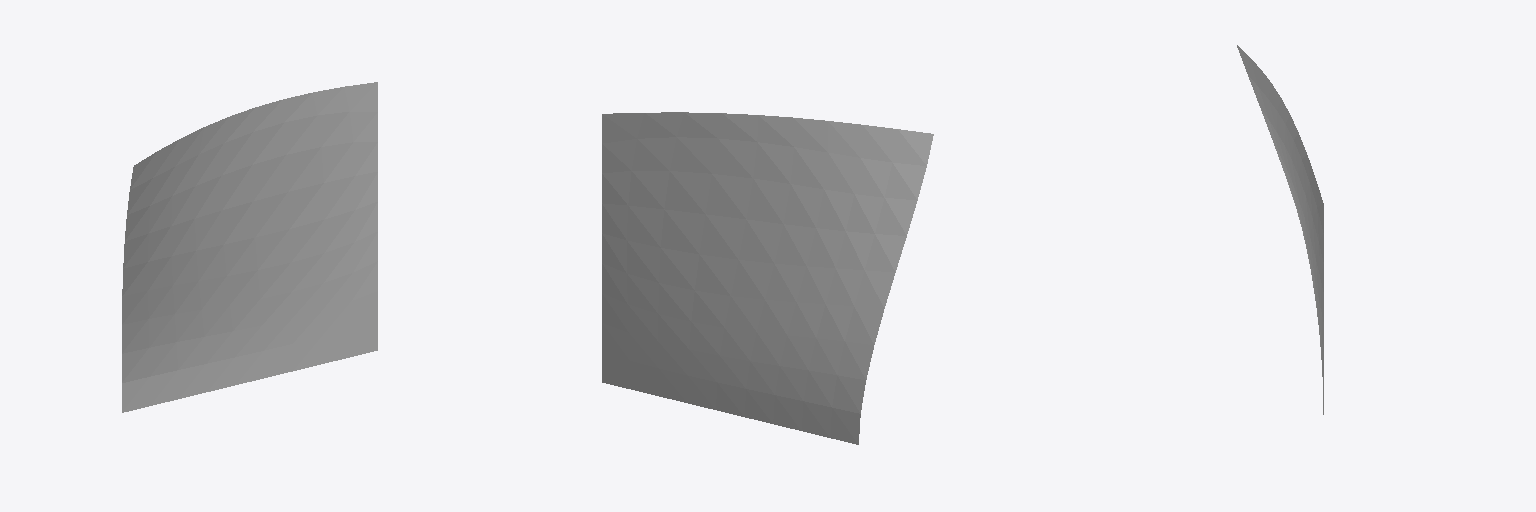
The model's file is bezier.obj.
3 views of the same model, side by side, from view 1: azimuth 30°, elevation 25°; view 2: azimuth 150°, elevation 25°; view 3: azimuth 270°, elevation 25° (orthographic).
Visible parts, largest first — view 1: bezier; view 2: bezier; view 3: bezier.
Boxes of the visible parts, x1,y1,x2,y2 form: bezier: [122, 82, 377, 412]; bezier: [602, 112, 933, 444]; bezier: [1237, 45, 1323, 414].
Bounding box in the file's own units: 3.37 × 3.25 × 0.8838.